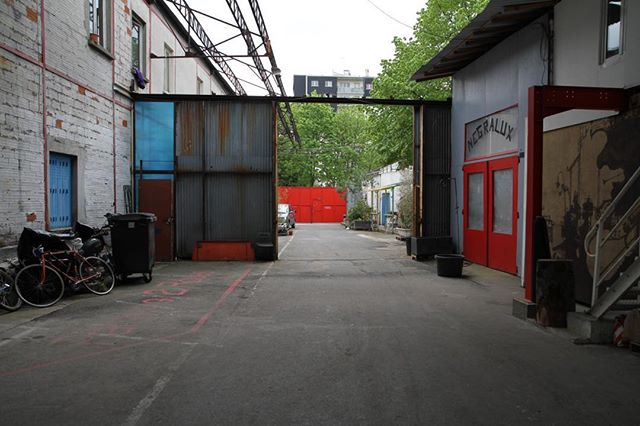bicicle: (6, 239, 122, 301)
building: (1, 1, 228, 281), (427, 1, 640, 289), (292, 67, 372, 103)
street: (1, 233, 640, 426)
trash can: (111, 205, 163, 286)
vegetation: (281, 26, 447, 185)
